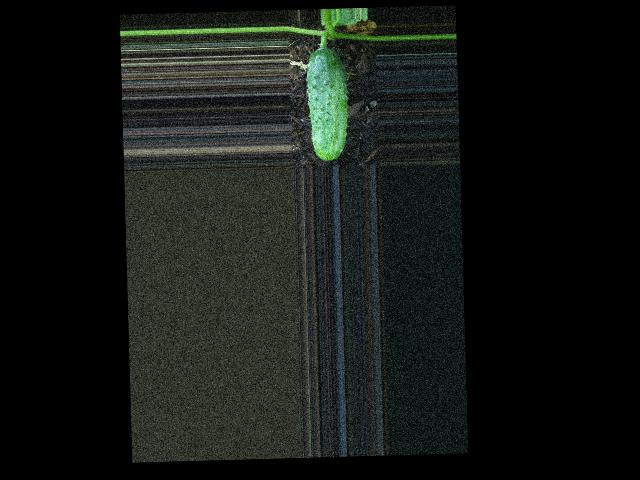cucumber: (305, 47, 349, 162)
